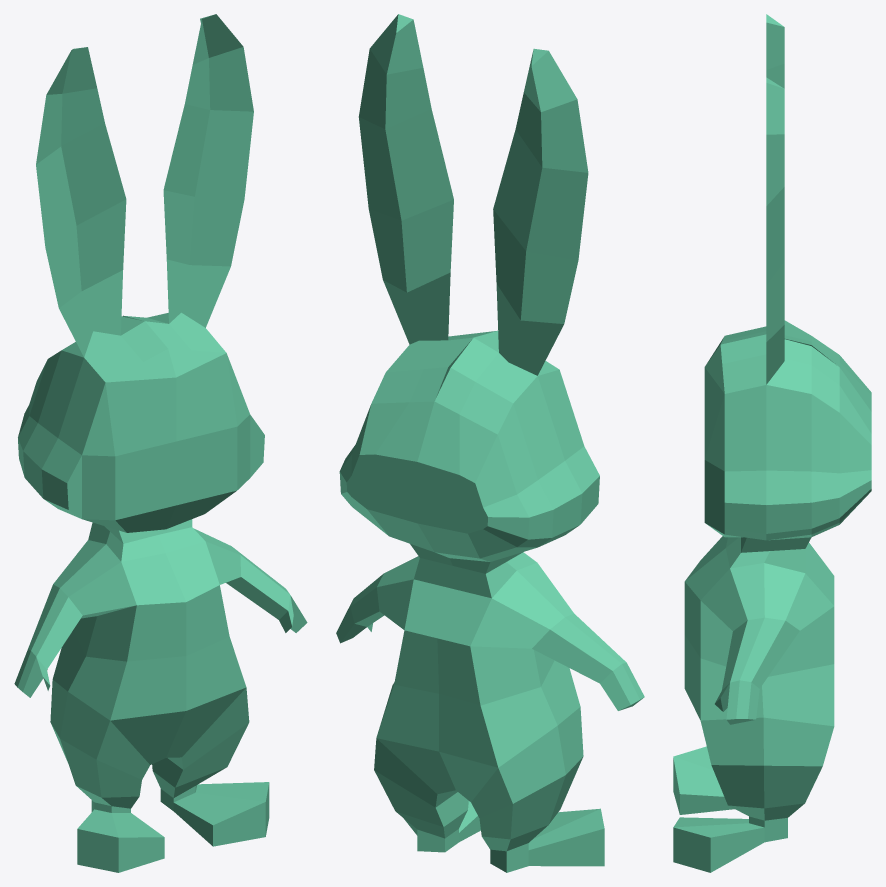
Rendered from Bunny_valmis.fbx.
3 views of the same model, side by side, from view 1: azimuth 30°, elevation 25°; view 2: azimuth 150°, elevation 25°; view 3: azimuth 270°, elevation 25° (orthographic). The views are drawn at different scales.
Visible parts, largest first — view 1: Plane; view 2: Plane; view 3: Plane.
Part boxes in pixels (x1,y1,x2,y2): Plane: (14, 14, 307, 872); Plane: (336, 14, 644, 872); Plane: (673, 14, 871, 872).
Size of the model in its own units: 342 by 902 by 209.
